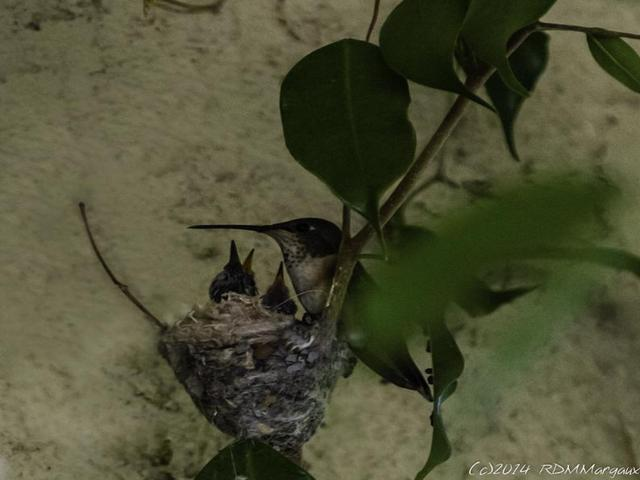bird: (193, 189, 527, 446)
